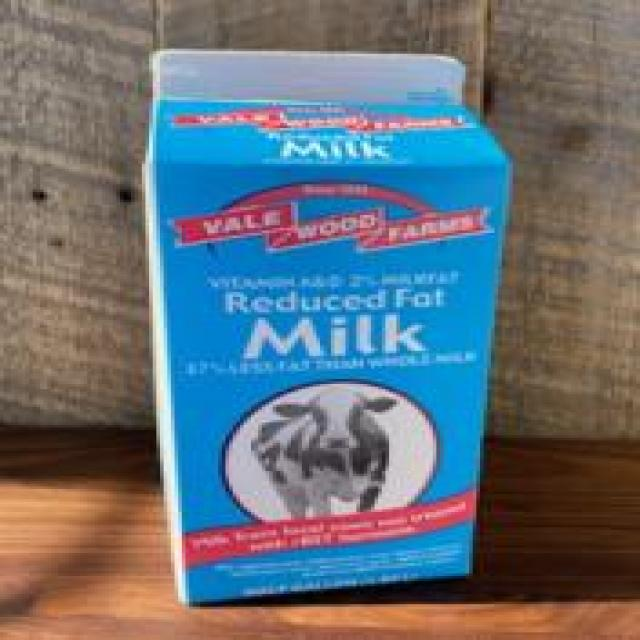drink carton: (138, 51, 520, 611)
